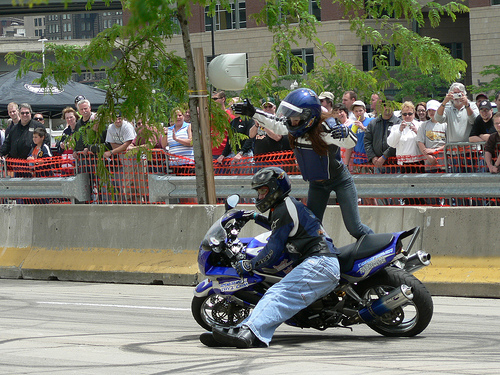helmet: (282, 92, 320, 127), (252, 166, 289, 200)
